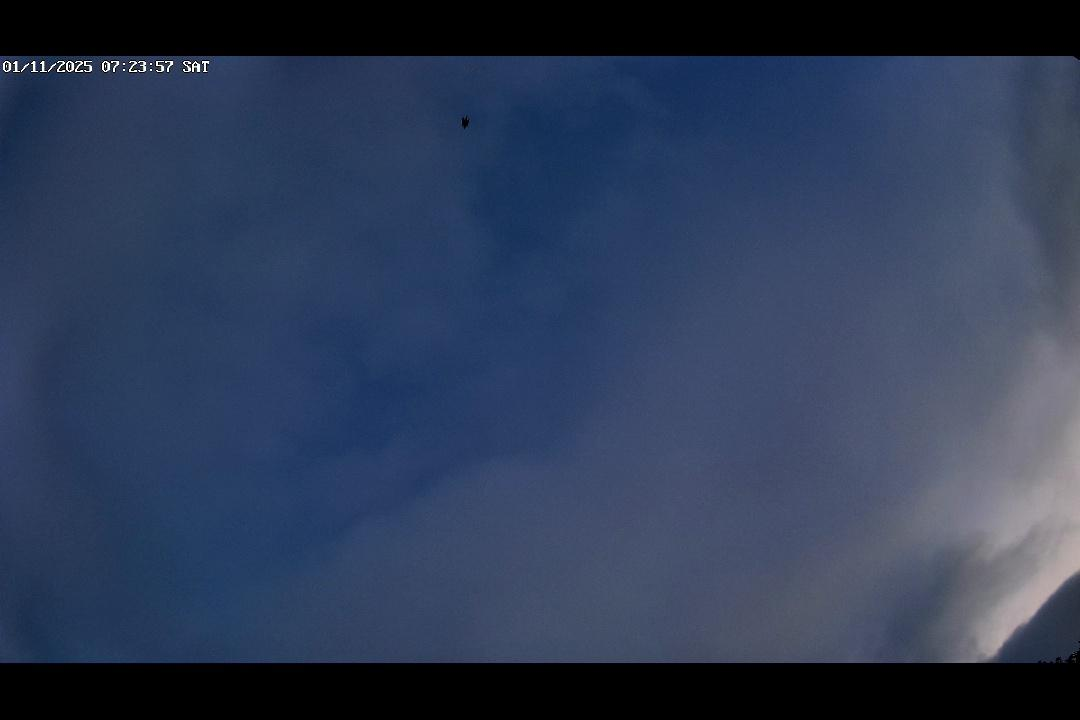WildLife: (450, 111, 481, 138)
